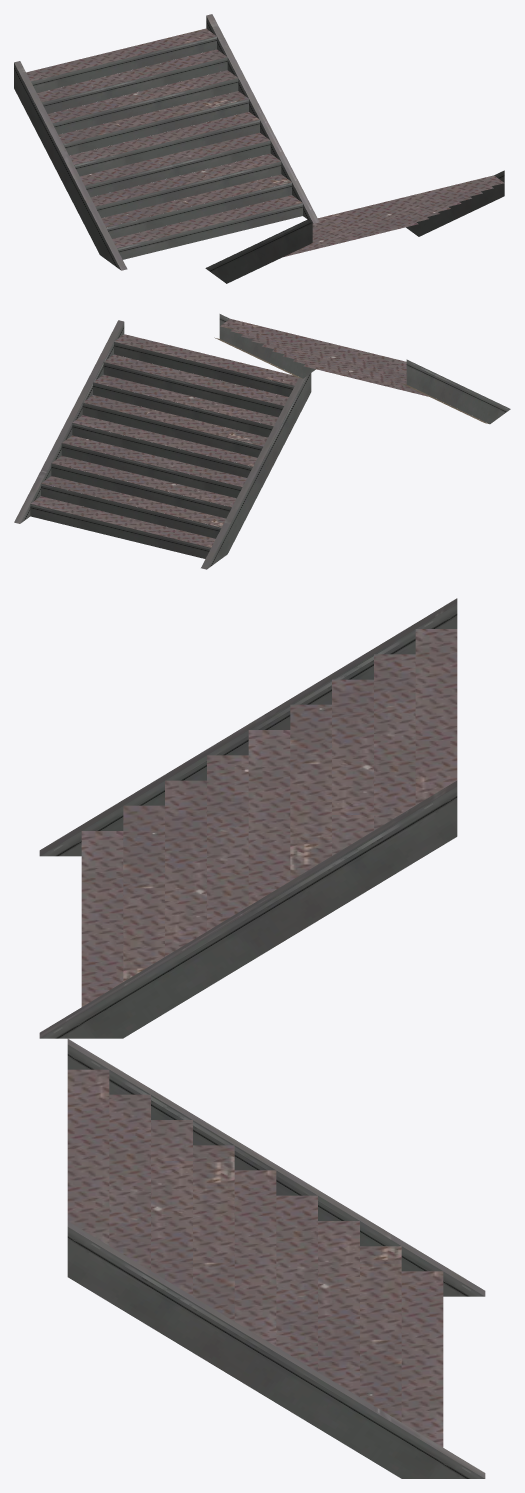
The picture shows the model from 3 angles, top to bottom: view 1: azimuth 30°, elevation 25°; view 2: azimuth 150°, elevation 25°; view 3: azimuth 270°, elevation 25°; orthographic projection. The views are drawn at different scales.
Visible parts, largest first — view 1: body0_model0_lod0_mesh0, body0_model0_lod0_mesh3, body0_model0_lod0_mesh2; view 2: body0_model0_lod0_mesh0, body0_model0_lod0_mesh3, body0_model0_lod0_mesh2, body0_model0_lod0_mesh1; view 3: body0_model0_lod0_mesh3, body0_model0_lod0_mesh0, body0_model0_lod0_mesh2.
Boxes of the visible parts, box(x1,y1,x2,y2) form: body0_model0_lod0_mesh0: box(14, 16, 504, 283); body0_model0_lod0_mesh3: box(26, 28, 504, 257); body0_model0_lod0_mesh2: box(14, 14, 319, 270); body0_model0_lod0_mesh0: box(20, 314, 510, 569); body0_model0_lod0_mesh3: box(30, 319, 428, 547); body0_model0_lod0_mesh2: box(14, 320, 305, 569); body0_model0_lod0_mesh1: box(214, 337, 488, 423); body0_model0_lod0_mesh3: box(67, 629, 457, 1447); body0_model0_lod0_mesh0: box(40, 604, 484, 1478); body0_model0_lod0_mesh2: box(39, 598, 485, 1478).
Size of the model in its own units: 256 by 160 by 128.
4 materials, 4 textured.
